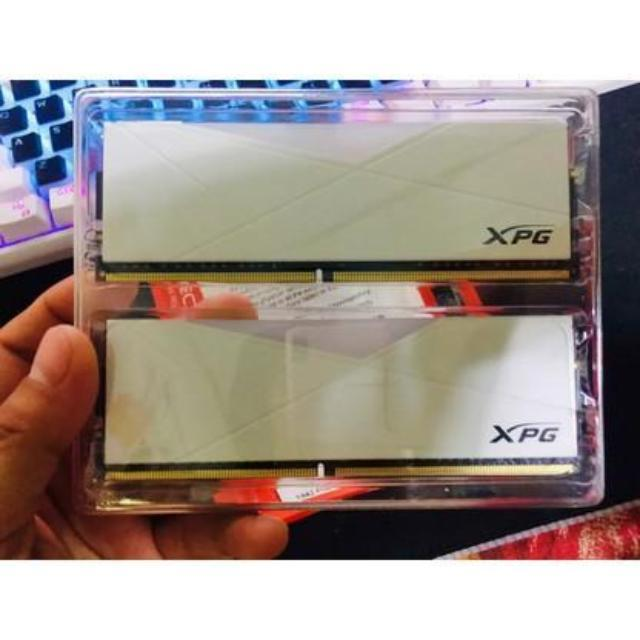RAM: (90, 107, 582, 296), (90, 311, 588, 489)
